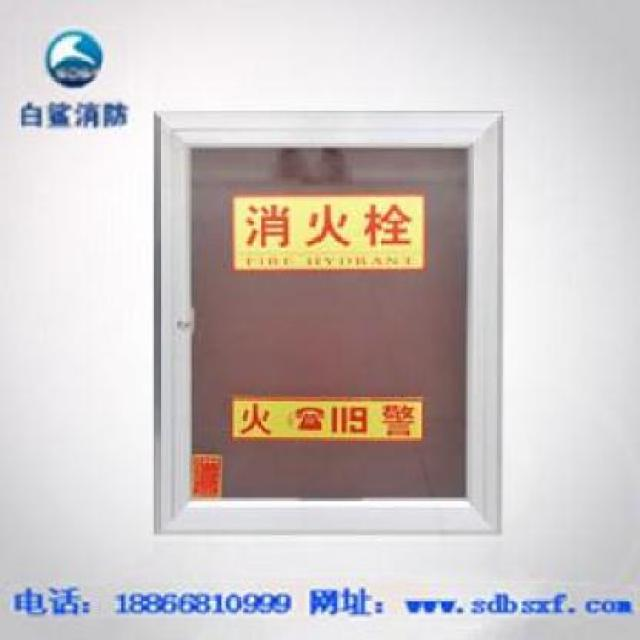firehydrant: (147, 102, 508, 543)
